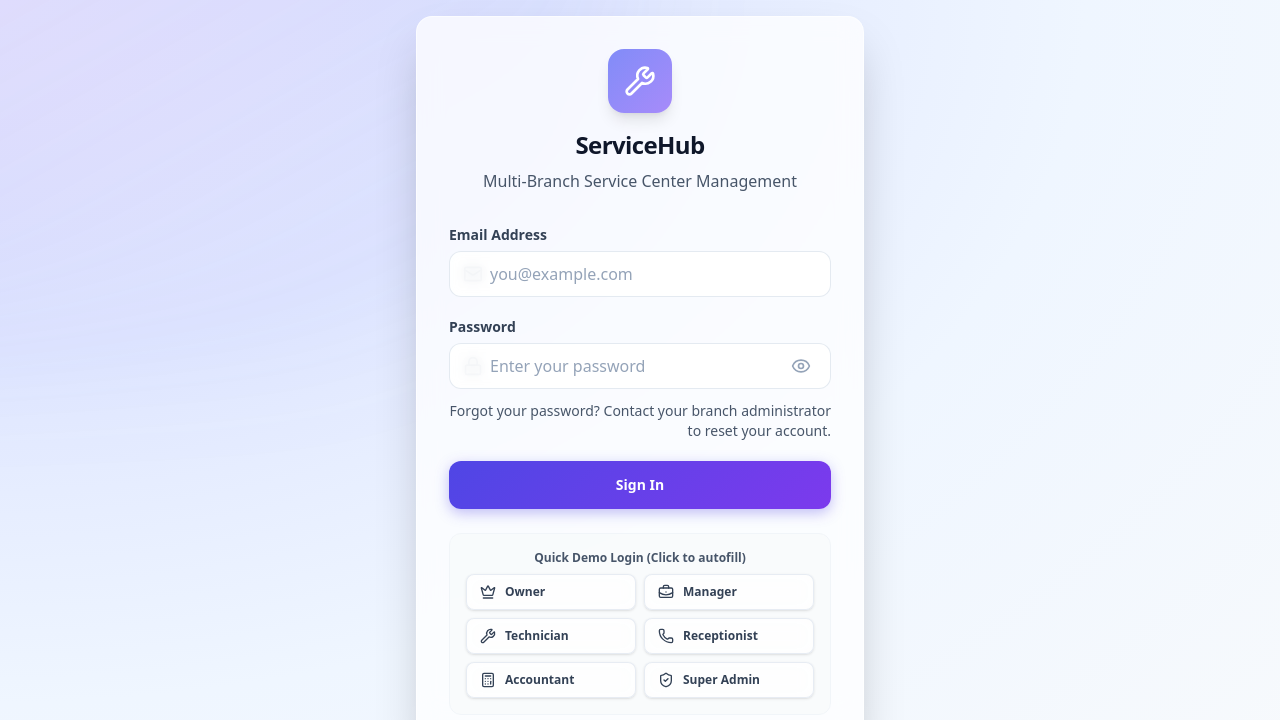
Test: Login page › shows validation error for empty password
The image size is (1280, 720).
In the field with placeholder "you@example.com": x=640, y=274 449,251 -> 831,297, type "owner@test.com"
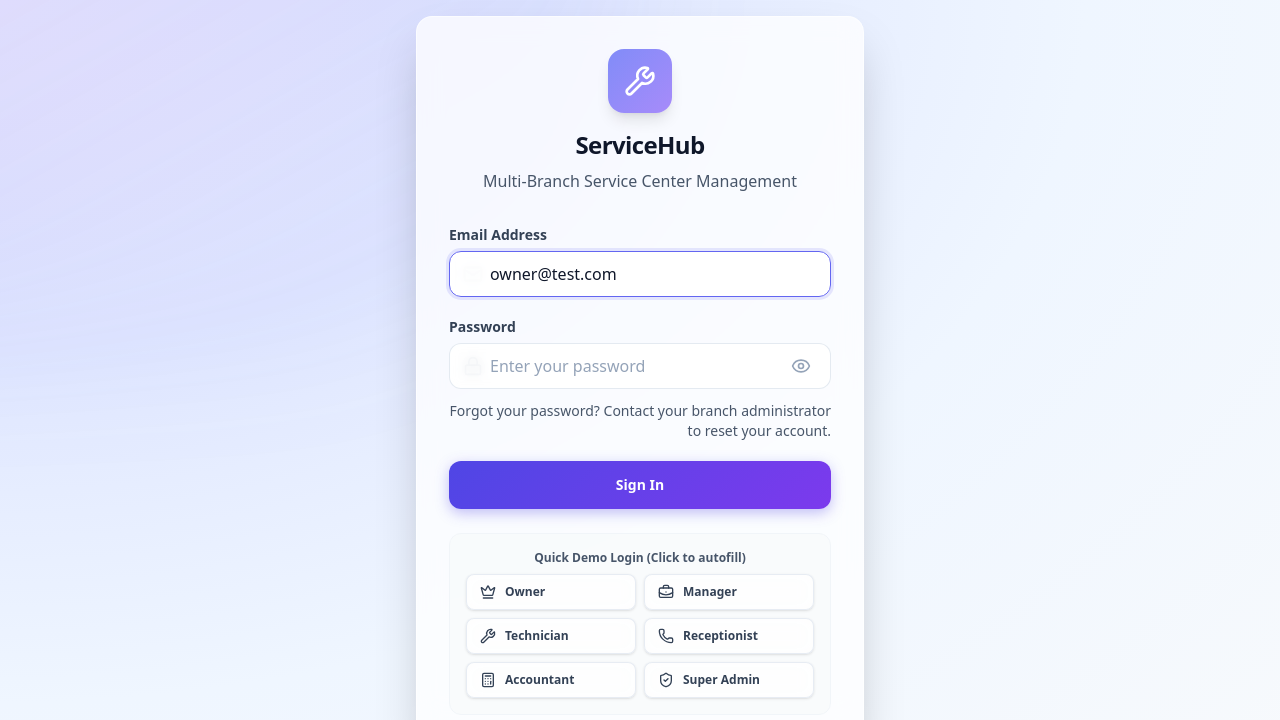
Click the button "Sign In": x=640, y=485 449,461 -> 831,509
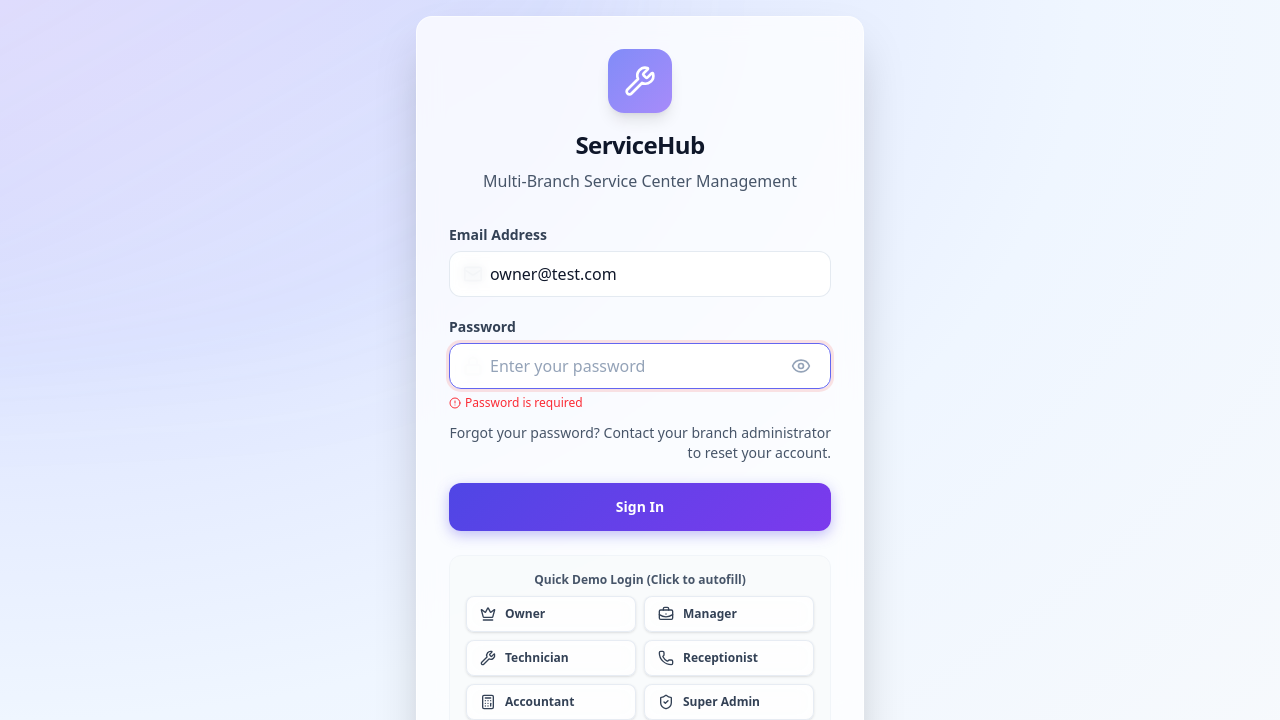
Check: the text "Password is required" is shown, box 449,394 -> 583,411
